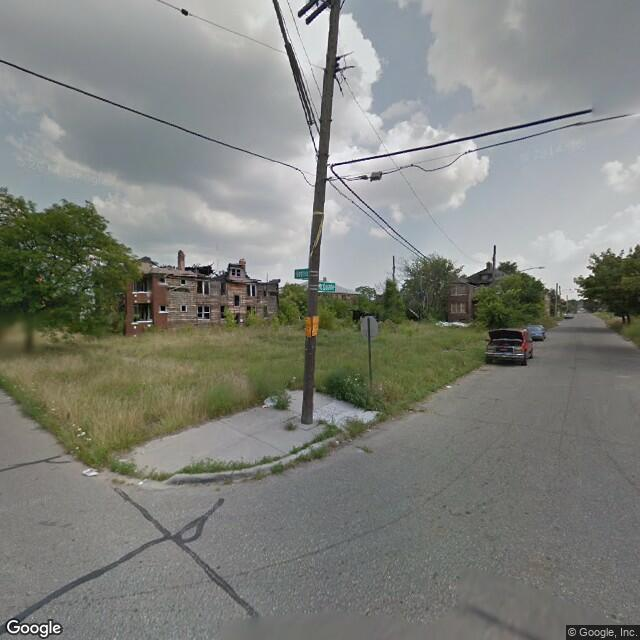litter: (263, 392, 278, 410), (79, 465, 97, 477), (334, 437, 344, 448), (135, 479, 144, 488), (444, 382, 451, 390)
